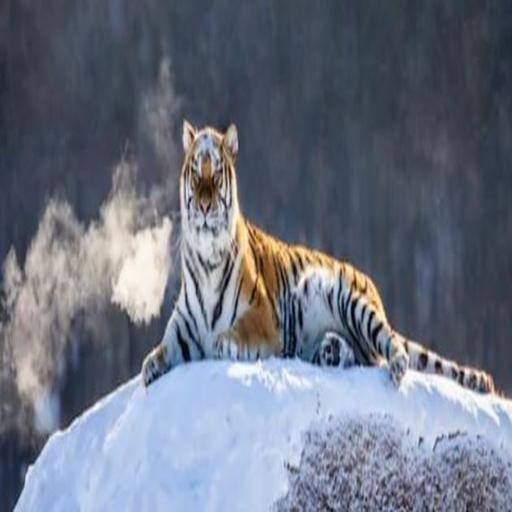Tiger: (116, 115, 509, 410)
